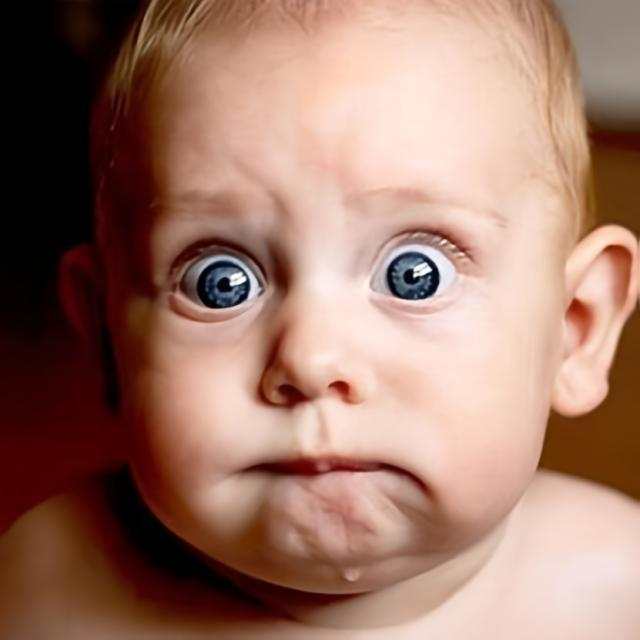fear: (86, 0, 566, 594)
